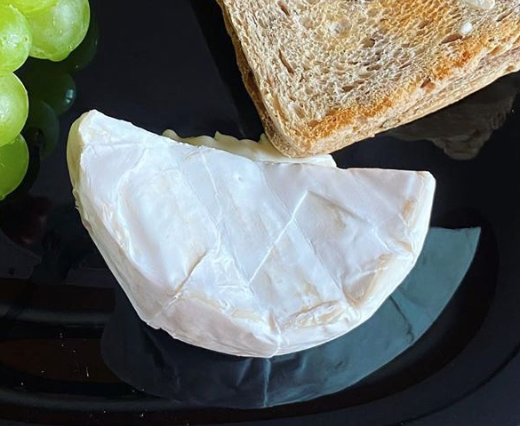camembert: (60, 108, 437, 361)
